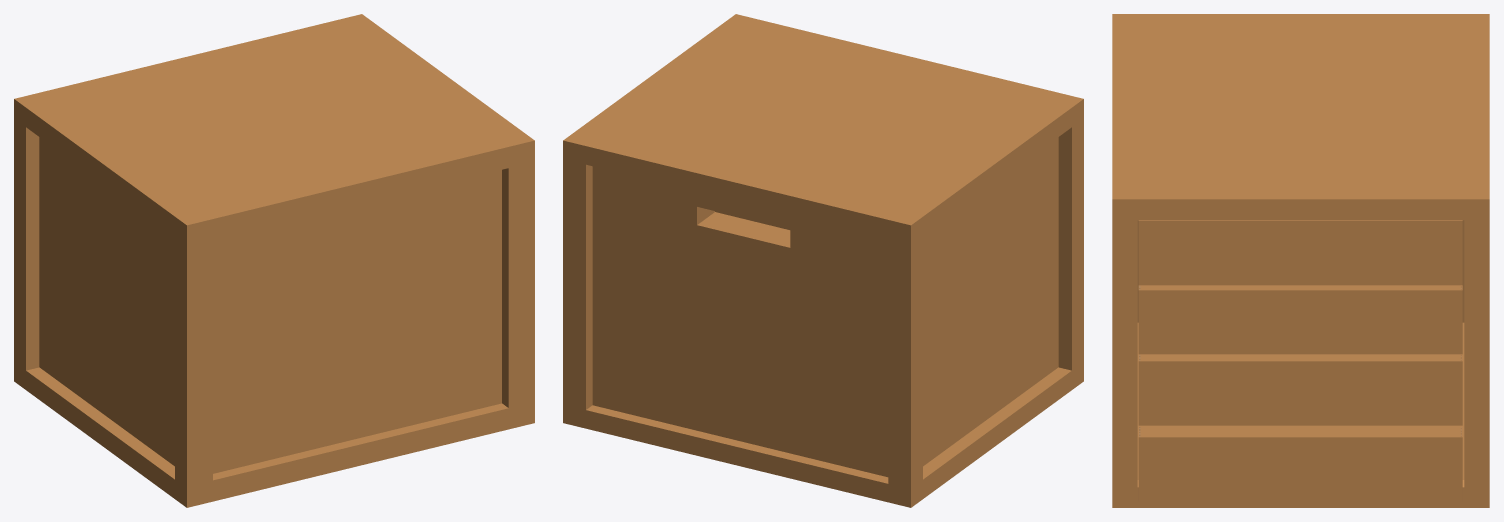
Rendered from SCrate.obj.
The picture shows the model from 3 angles, left to right: view 1: azimuth 30°, elevation 25°; view 2: azimuth 150°, elevation 25°; view 3: azimuth 270°, elevation 25°; orthographic projection. The views are drawn at different scales.
Visible parts, largest first — view 1: Cube; view 2: Cube; view 3: Cube.
Part boxes in pixels (box(x1,y1,x2,y2)): Cube: box(14, 14, 534, 507); Cube: box(563, 14, 1083, 507); Cube: box(1112, 14, 1489, 507).
Bounding box in the file's own units: 2.15 × 1.67 × 1.85.
